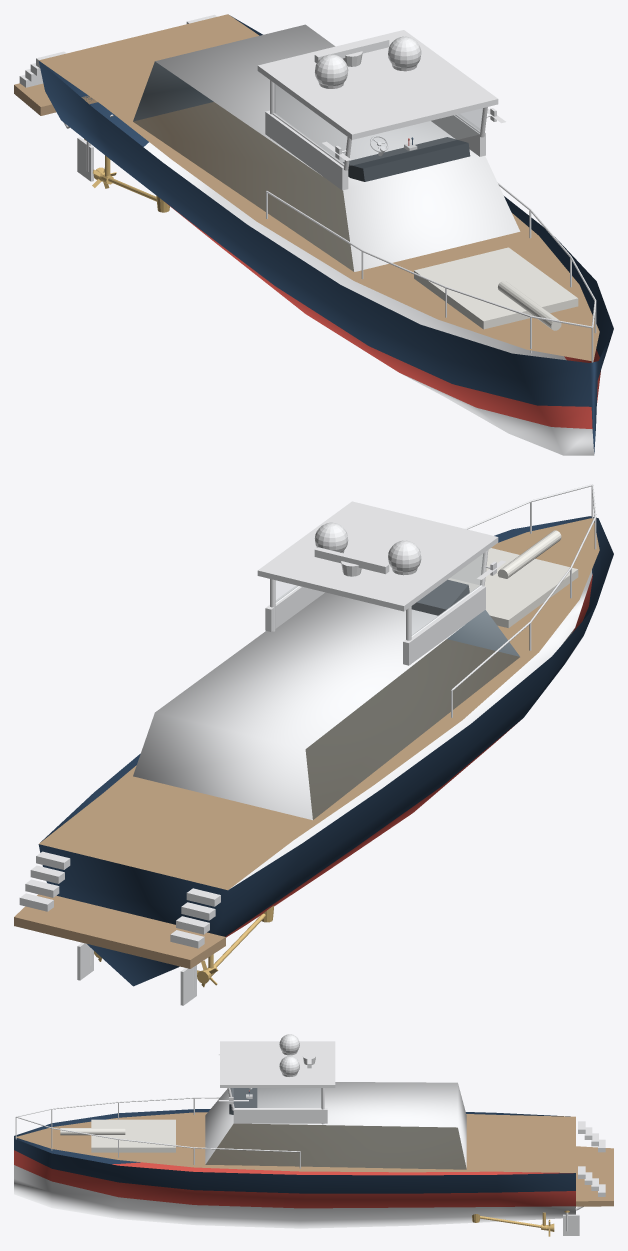
The model's file is yacht.glb.
3 views of the same model, one above another, from view 1: azimuth 30°, elevation 25°; view 2: azimuth 150°, elevation 25°; view 3: azimuth 270°, elevation 25° (orthographic). The views are drawn at different scales.
Parts seen in each view (by area): view 1: Superstructure_Saloon, Hull, Deck_Teak, Hardtop_Roof, Foredeck_Sunpad, Windscreen, Bridge_Coaming, Helm_Dashboard, Bow_Railings, Bridge_Structural_Pillars, Sat_Dome_Stbd, Sat_Dome_Port (+5 smaller); view 2: Superstructure_Saloon, Deck_Teak, Hull, Hardtop_Roof, Foredeck_Sunpad, Transom_Support_Knees, Bridge_Coaming, Windscreen, Bow_Railings, Helm_Dashboard, Bridge_Structural_Pillars, Sat_Dome_Port (+3 smaller); view 3: Hull, Deck_Teak, Superstructure_Saloon, Hardtop_Roof, Foredeck_Sunpad, Windscreen, Bridge_Coaming, Bow_Railings, Transom_Support_Knees, Helm_Dashboard, Sunpad_Bolster, Rudder_R_Body (+4 smaller).
Part boxes in pixels (<box>): Superstructure_Saloon: <box>133,24,520,271</box>; Hull: <box>39,15,613,455</box>; Deck_Teak: <box>14,14,599,361</box>; Hardtop_Roof: <box>257,30,498,139</box>; Foredeck_Sunpad: <box>414,247,578,329</box>; Windscreen: <box>274,83,482,165</box>; Bridge_Coaming: <box>265,110,485,190</box>; Helm_Dashboard: <box>343,137,470,181</box>; Bow_Railings: <box>266,182,596,362</box>; Bridge_Structural_Pillars: <box>270,80,496,170</box>; Sat_Dome_Stbd: <box>388,36,421,71</box>; Sat_Dome_Port: <box>315,54,348,88</box>; Superstructure_Saloon: <box>133,592,519,820</box>; Deck_Teak: <box>14,518,599,968</box>; Hull: <box>38,516,613,986</box>; Hardtop_Roof: <box>257,501,498,611</box>; Foredeck_Sunpad: <box>448,548,578,627</box>; Transom_Support_Knees: <box>19,851,220,948</box>; Bridge_Coaming: <box>265,585,485,665</box>; Windscreen: <box>276,553,483,634</box>; Bow_Railings: <box>451,484,596,717</box>; Helm_Dashboard: <box>411,579,469,615</box>; Bridge_Structural_Pillars: <box>270,550,496,640</box>; Sat_Dome_Port: <box>388,540,421,575</box>; Hull: <box>14,1109,575,1228</box>; Deck_Teak: <box>15,1112,613,1206</box>; Superstructure_Saloon: <box>205,1082,466,1169</box>; Hardtop_Roof: <box>220,1041,335,1087</box>; Foredeck_Sunpad: <box>91,1119,175,1152</box>; Windscreen: <box>230,1088,320,1107</box>; Bridge_Coaming: <box>233,1108,327,1123</box>; Bow_Railings: <box>15,1097,300,1168</box>; Transom_Support_Knees: <box>575,1121,605,1210</box>; Helm_Dashboard: <box>229,1088,257,1114</box>; Sunpad_Bolster: <box>60,1128,125,1135</box>; Rudder_R_Body: <box>563,1212,579,1235</box>.
Bounding box in the file's own units: 5.2 × 6.65 × 19.8.
